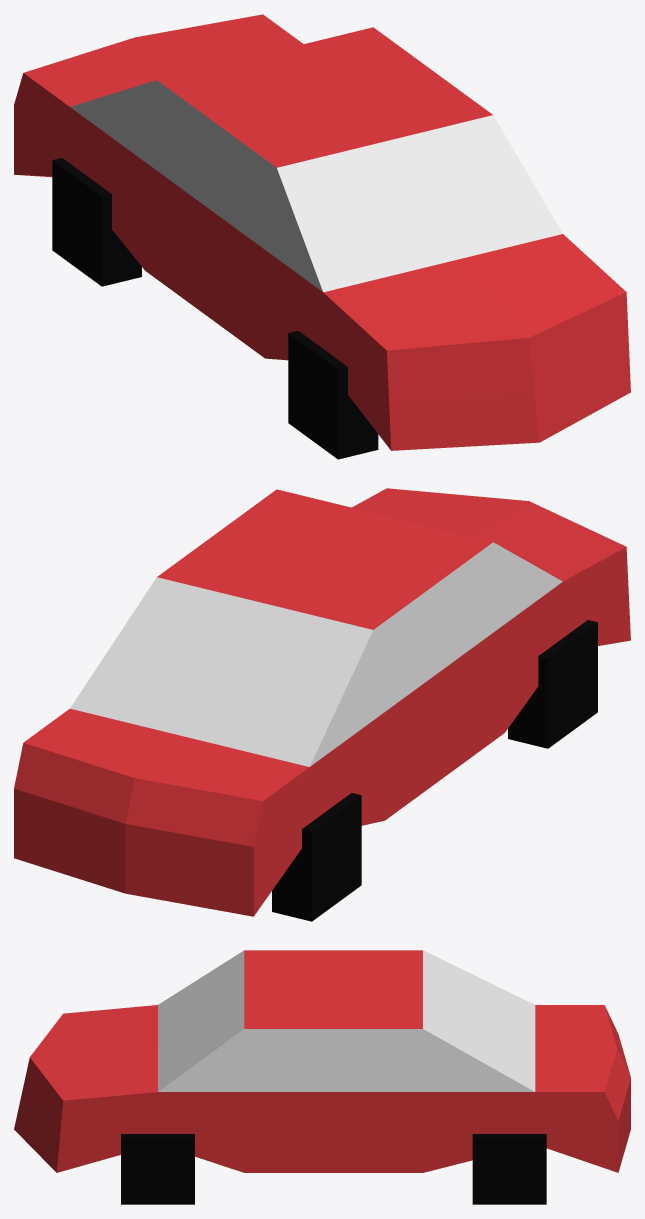
The model's file is Sedan 1.fbx.
3 views of the same model, one above another, from view 1: azimuth 30°, elevation 25°; view 2: azimuth 150°, elevation 25°; view 3: azimuth 270°, elevation 25° (orthographic). The views are drawn at different scales.
Parts seen in each view (by area): view 1: Sedan; view 2: Sedan; view 3: Sedan.
Boxes of the visible parts, box(x1,y1,x2,y2) form: Sedan: box(14, 14, 630, 459); Sedan: box(14, 488, 630, 921); Sedan: box(14, 950, 630, 1204).
Size of the model in its own units: 2.5 by 2.08 by 6.91.
